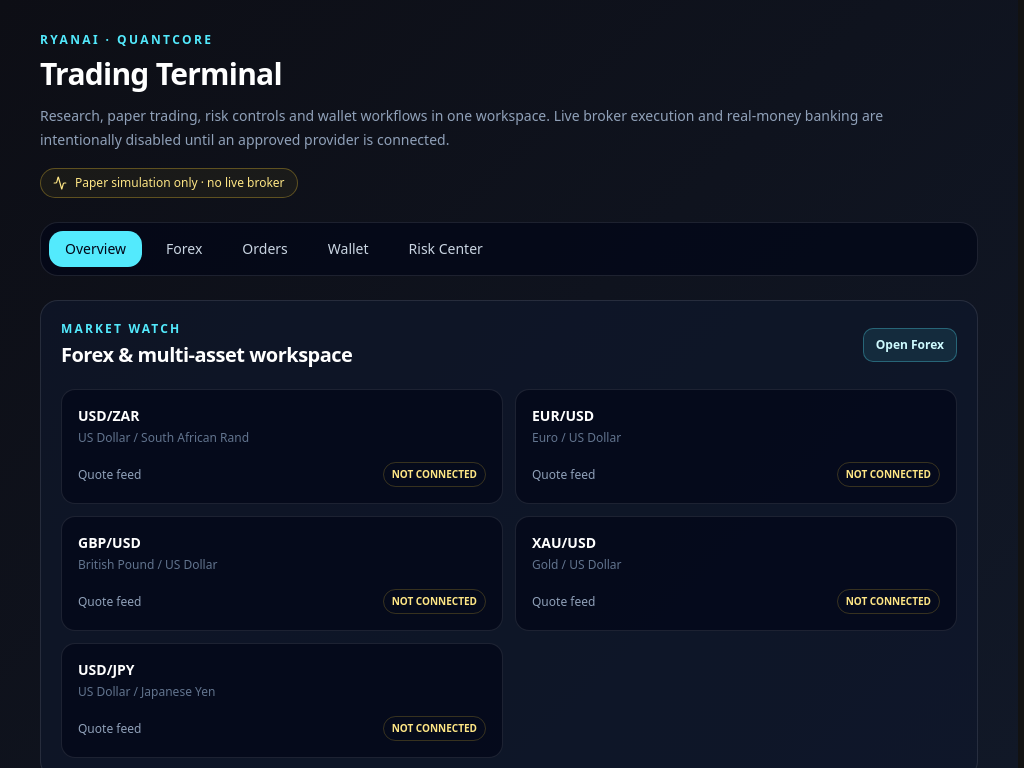
Trading Terminal › shows server-enforced risk limits in the risk center
What coordinates should you click on to do the following:
click the button "Risk Center"
I would click on:
 (446, 249)
Its box is x1=393 y1=231 x2=499 y2=267.
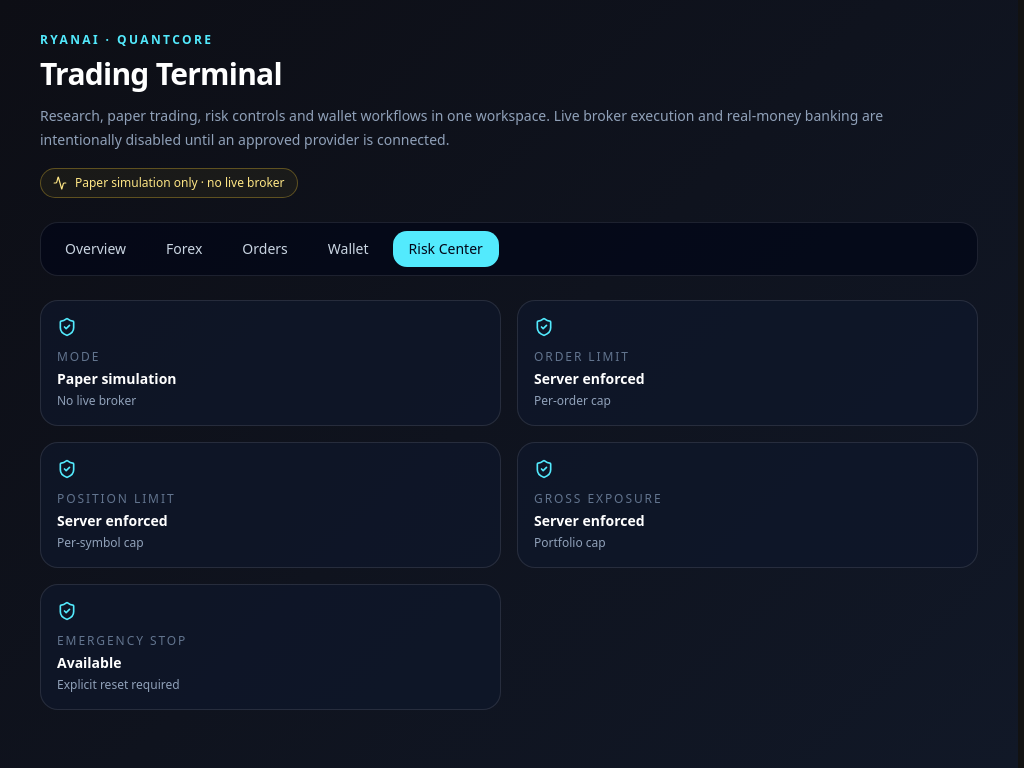
Expected: the text "Server enforced" is shown, x1=534 y1=369 x2=644 y2=388
Expected: the text "Emergency stop" is shown, x1=57 y1=632 x2=187 y2=649
Expected: the text "Explicit reset required" is shown, x1=57 y1=676 x2=180 y2=693
